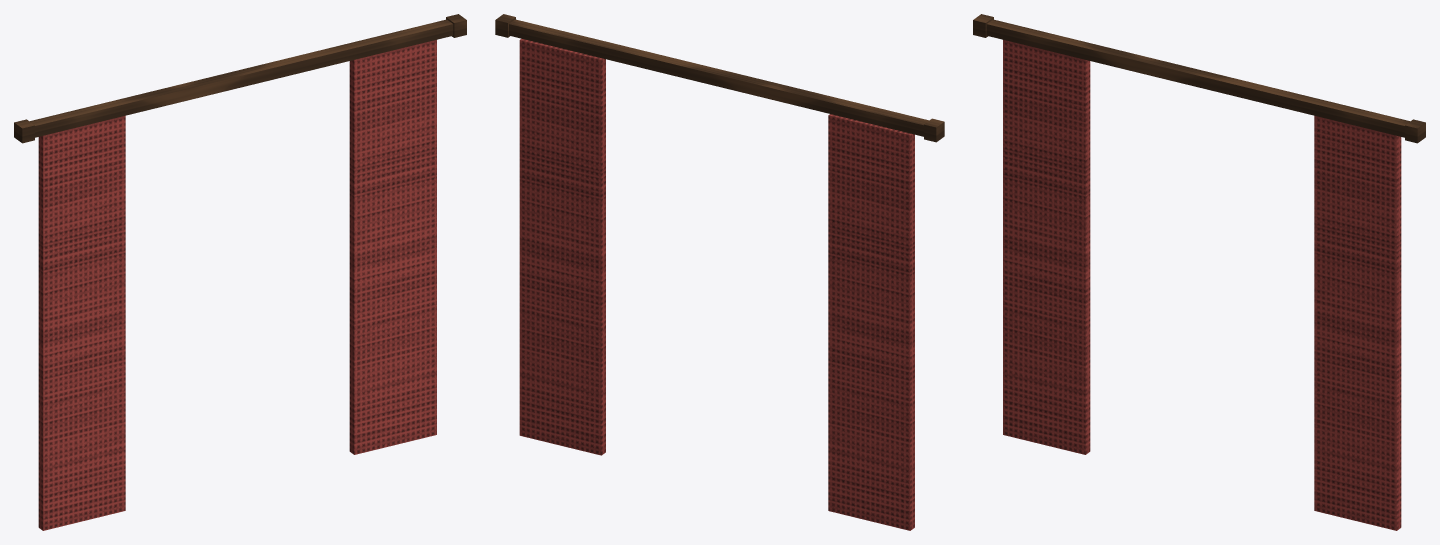
File: window_curtain.fbx
The picture shows the model from 3 angles, left to right: view 1: azimuth 30°, elevation 25°; view 2: azimuth 150°, elevation 25°; view 3: azimuth 330°, elevation 25°; orthographic projection.
Parts seen in each view (by area): view 1: window_curtain; view 2: window_curtain; view 3: window_curtain.
Boxes of the visible parts, box(x1,y1,x2,y2) form: window_curtain: box(14, 14, 466, 530); window_curtain: box(495, 14, 944, 530); window_curtain: box(973, 14, 1425, 530).
Bounding box in the file's own units: 140 × 124 × 5.
